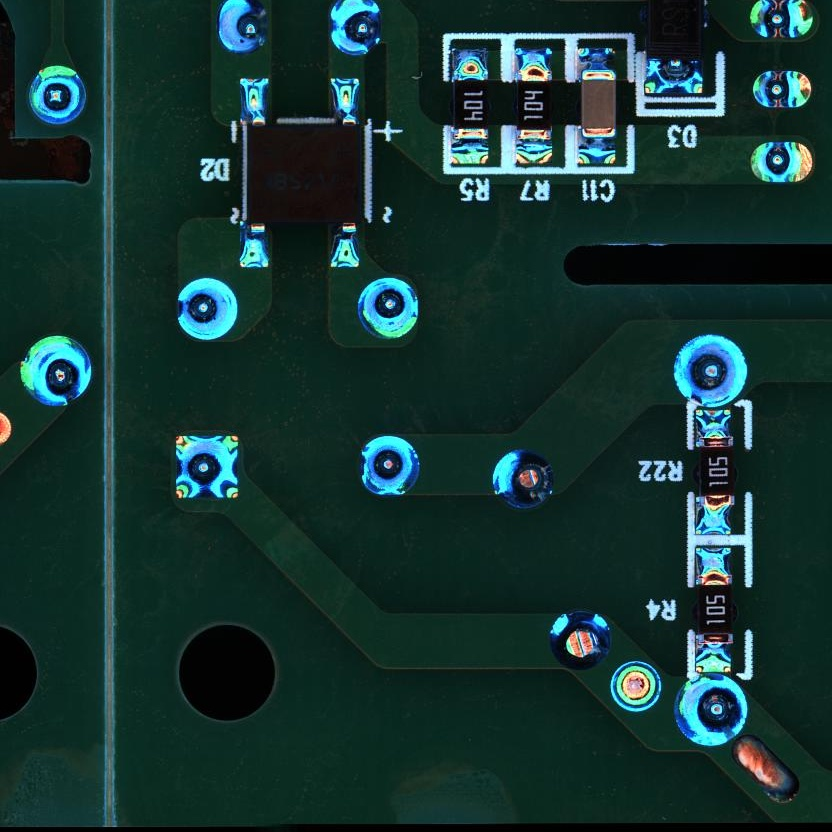spot: (670, 675, 749, 749), (671, 333, 749, 407), (19, 334, 94, 407), (172, 433, 240, 503), (356, 275, 421, 342), (176, 276, 240, 342), (490, 446, 554, 512), (548, 608, 613, 672), (358, 433, 421, 498), (26, 64, 89, 126), (214, 1, 272, 56), (328, 1, 382, 58), (748, 139, 813, 184), (609, 659, 663, 712), (746, 1, 814, 40), (751, 68, 812, 109)
